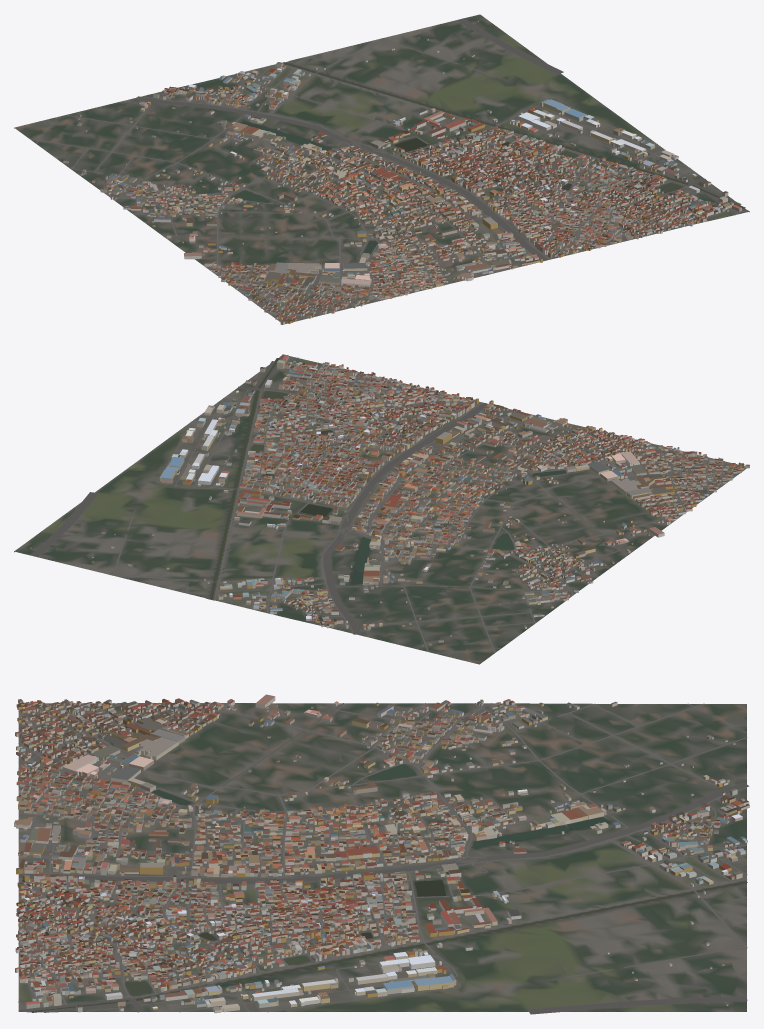
The picture shows the model from 3 angles, top to bottom: view 1: azimuth 30°, elevation 25°; view 2: azimuth 150°, elevation 25°; view 3: azimuth 270°, elevation 25°; orthographic projection. The views are drawn at different scales.
Parts seen in each view (by area): view 1: ground, buildings, roads, water; view 2: ground, buildings, roads, water; view 3: ground, buildings, roads, water.
Part boxes in pixels (bbox=[...]): ground: bbox=[14, 14, 749, 323]; buildings: bbox=[63, 20, 741, 324]; roads: bbox=[30, 18, 749, 323]; water: bbox=[234, 62, 745, 254]; ground: bbox=[14, 356, 746, 664]; buildings: bbox=[30, 354, 749, 646]; roads: bbox=[30, 354, 745, 652]; water: bbox=[209, 358, 566, 599]; ground: bbox=[18, 703, 746, 1012]; buildings: bbox=[14, 694, 749, 1013]; roads: bbox=[18, 702, 749, 1014]; water: bbox=[31, 764, 747, 1012].
Size of the model in its own units: 1434 by 25.27 by 1417.
